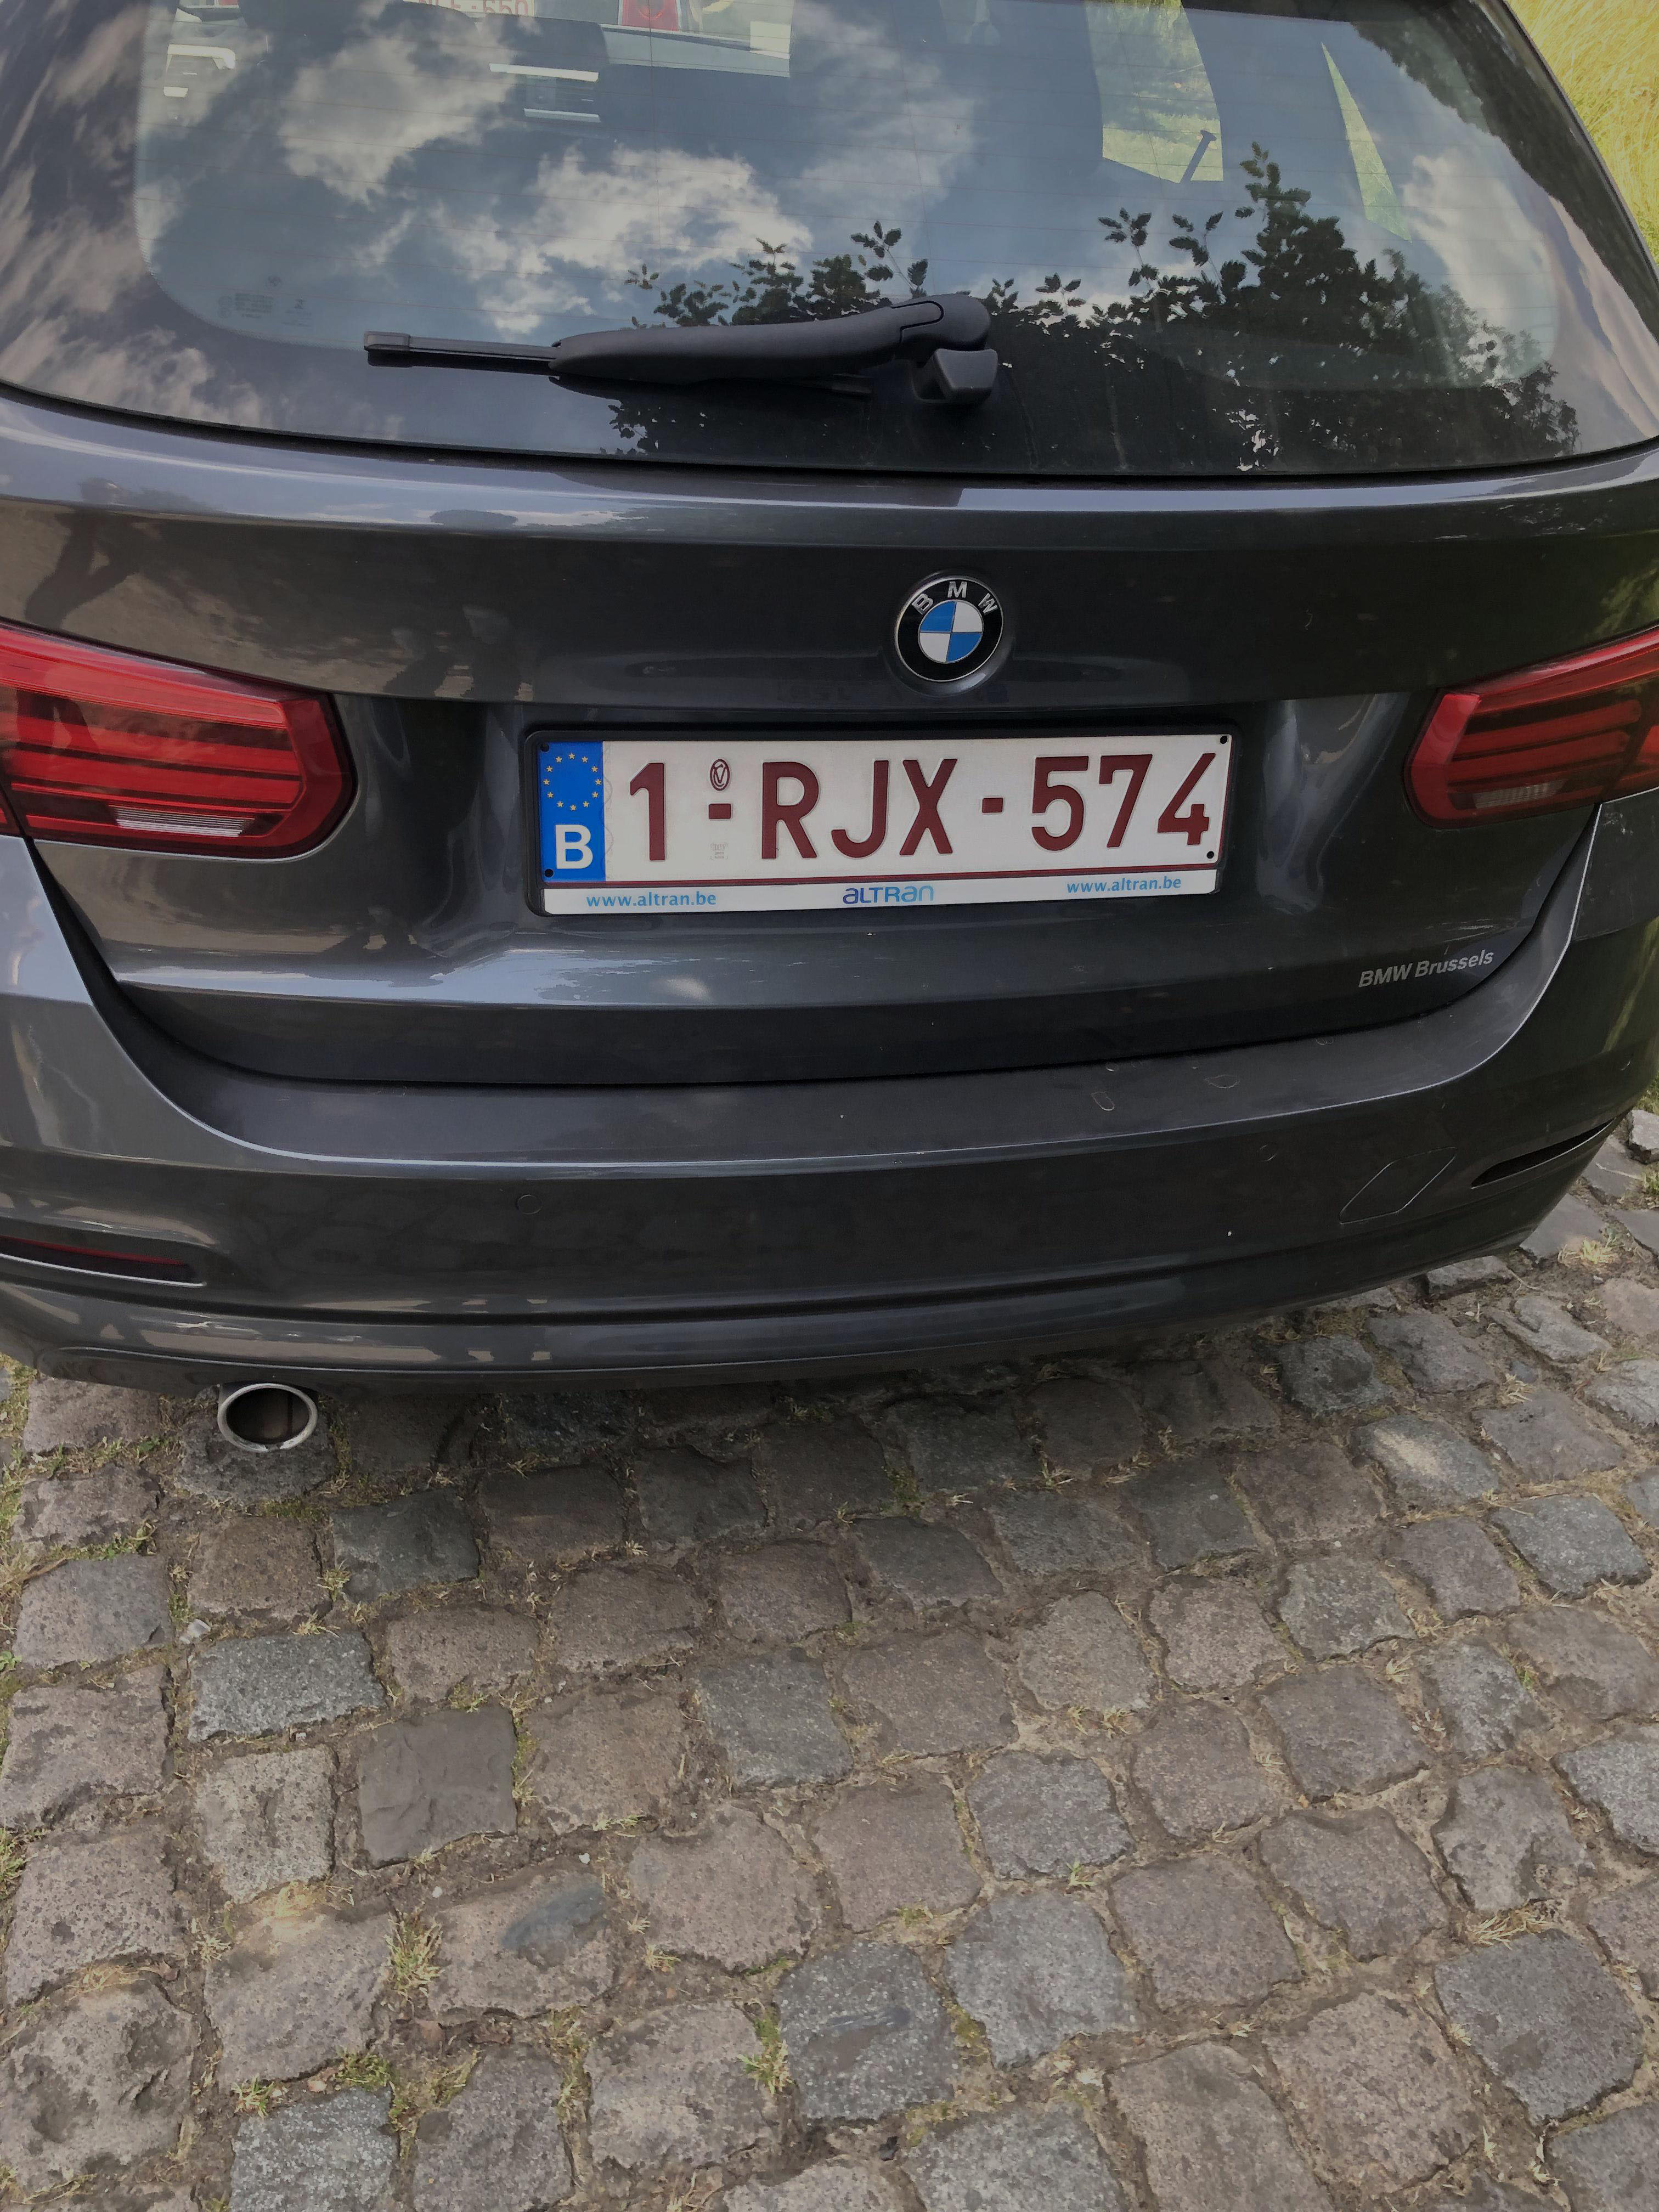plate: (375, 696, 1171, 894)
